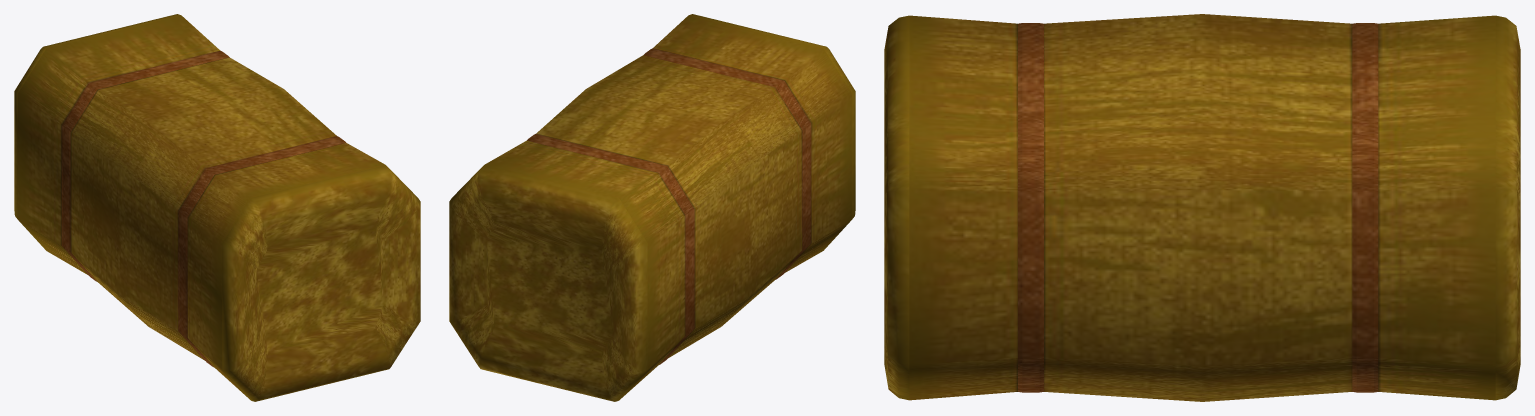
File: bale_of_hay.glb
3 views of the same model, side by side, from view 1: azimuth 30°, elevation 25°; view 2: azimuth 150°, elevation 25°; view 3: azimuth 270°, elevation 25° (orthographic). The views are drawn at different scales.
Visible parts, largest first — view 1: bale_of_hay; view 2: bale_of_hay; view 3: bale_of_hay.
Part boxes in pixels (left/top/right/bottom): bale_of_hay: left=14, top=14, right=420, bottom=401; bale_of_hay: left=449, top=14, right=855, bottom=401; bale_of_hay: left=884, top=14, right=1520, bottom=401.
Bounding box in the file's own units: 1.01 × 1 × 1.97.
Materials: 1 (1 with a texture image).
